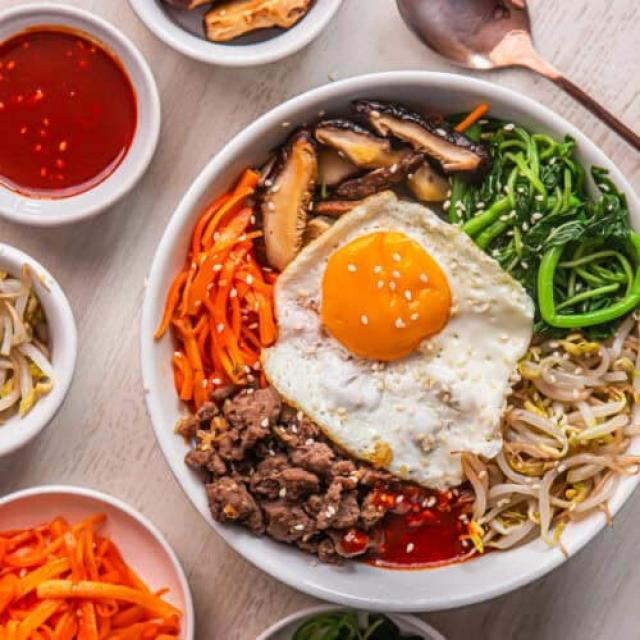Kaow-Yum: (138, 69, 640, 607)
Protein: (260, 191, 534, 486), (184, 386, 394, 551)
Vegetable: (477, 102, 640, 558), (238, 97, 484, 228), (152, 172, 275, 398)
